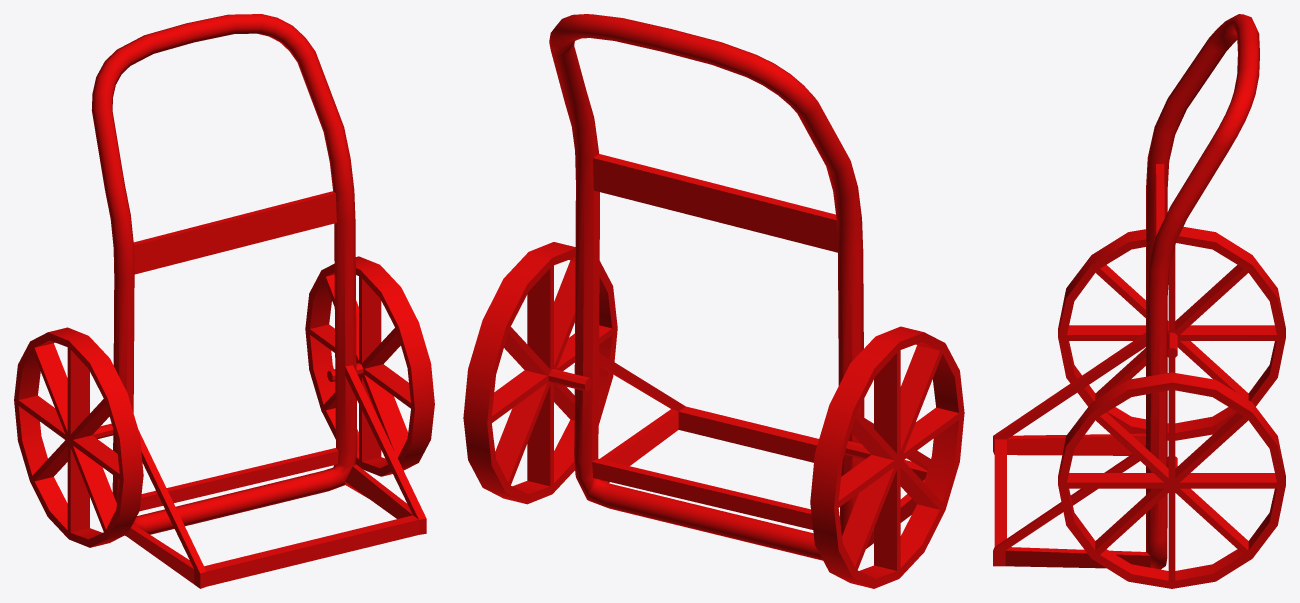
Rendered from seguranca-obj_carrinho.fbx.
The picture shows the model from 3 angles, left to right: view 1: azimuth 30°, elevation 25°; view 2: azimuth 150°, elevation 25°; view 3: azimuth 270°, elevation 25°; orthographic projection. The views are drawn at different scales.
Parts seen in each view (by area): view 1: sweep1, pCylinder22, pCylinder2; view 2: sweep1, pCylinder22, pCylinder2; view 3: sweep1, pCylinder2, pCylinder22.
Boxes of the visible parts, box(x1,y1,x2,y2) form: sweep1: box(91, 14, 426, 588); pCylinder22: box(14, 327, 143, 547); pCylinder2: box(305, 256, 434, 476); sweep1: box(549, 14, 930, 560); pCylinder22: box(810, 326, 964, 588); pCylinder2: box(463, 242, 617, 504); sweep1: box(993, 14, 1259, 569); pCylinder2: box(1058, 372, 1285, 588); pCylinder22: box(1058, 226, 1285, 440).
Size of the model in its own units: 23.14 by 32.46 by 18.15.
